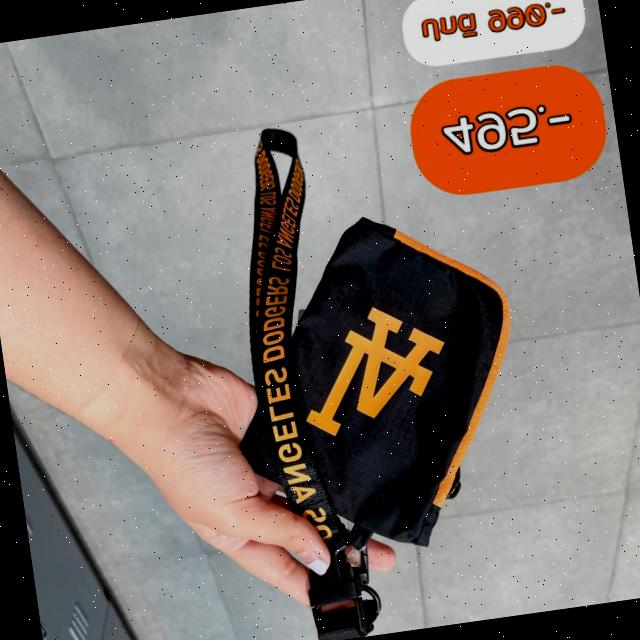Handbag: (223, 185, 549, 569)
